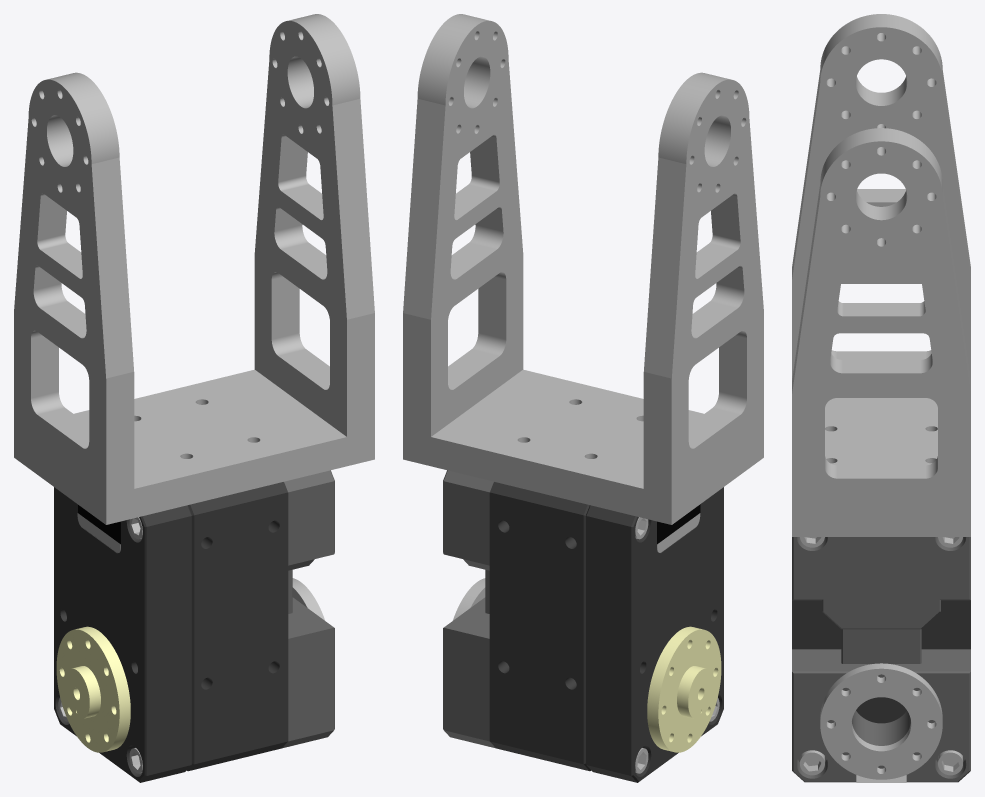
File: FemurR.obj
3 views of the same model, side by side, from view 1: azimuth 30°, elevation 25°; view 2: azimuth 150°, elevation 25°; view 3: azimuth 270°, elevation 25° (orthographic). The views are drawn at different scales.
Visible parts, largest first — view 1: Solid1:17, Solid1:18, Solid1:3, Solid1:15, Solid1:16, Solid1:5, Solid1; view 2: Solid1:17, Solid1:18, Solid1:3, Solid1:15, Solid1:16, Solid1:5, Solid1; view 3: Solid1:18, Solid1:5, Solid1:17, Solid1:16, Solid1:14, Solid1:15, Solid1:12, Solid1:13.
Part boxes in pixels (x1,y1,x2,y2): Solid1:17: (14,72,134,512); Solid1:18: (254,14,374,436); Solid1:3: (54,487,191,782); Solid1:15: (187,482,288,771); Solid1:16: (14,369,374,524); Solid1:5: (282,470,334,748); Solid1: (56,626,130,752); Solid1:17: (643,72,763,512); Solid1:18: (403,14,523,436); Solid1:3: (586,487,723,782); Solid1:15: (489,482,590,771); Solid1:16: (403,369,763,524); Solid1:5: (443,470,495,748); Solid1: (647,626,721,752); Solid1:18: (792,128,970,536); Solid1:5: (792,537,970,782); Solid1:17: (792,14,970,379); Solid1:16: (792,398,970,536); Solid1:14: (820,663,942,779); Solid1:15: (792,600,970,723); Solid1:12: (800,750,824,775); Solid1:13: (938,750,962,775).
Bounding box in the file's own units: 0.048 × 0.116 × 0.0285.
